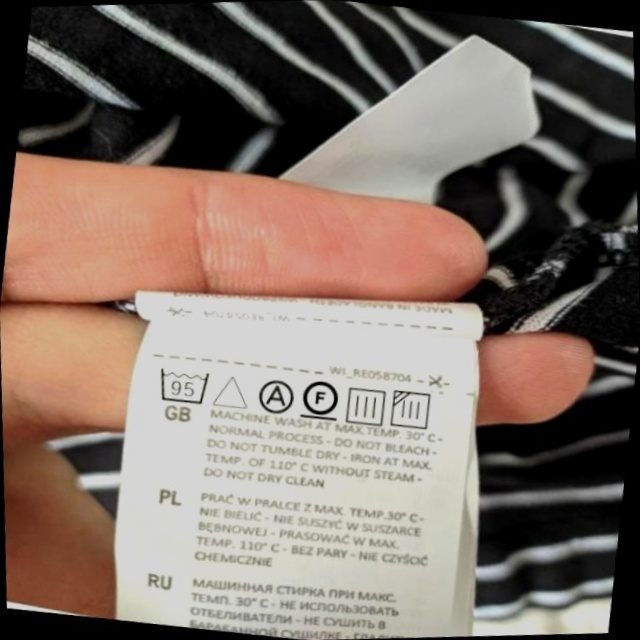95C: (153, 361, 216, 410)
bleach: (210, 367, 253, 415)
drip_dry: (341, 381, 392, 430)
drip_dry_in_shade: (387, 384, 440, 436)
dry_clean: (253, 374, 298, 418)
dry_clean_petrol_only: (298, 372, 345, 425)
